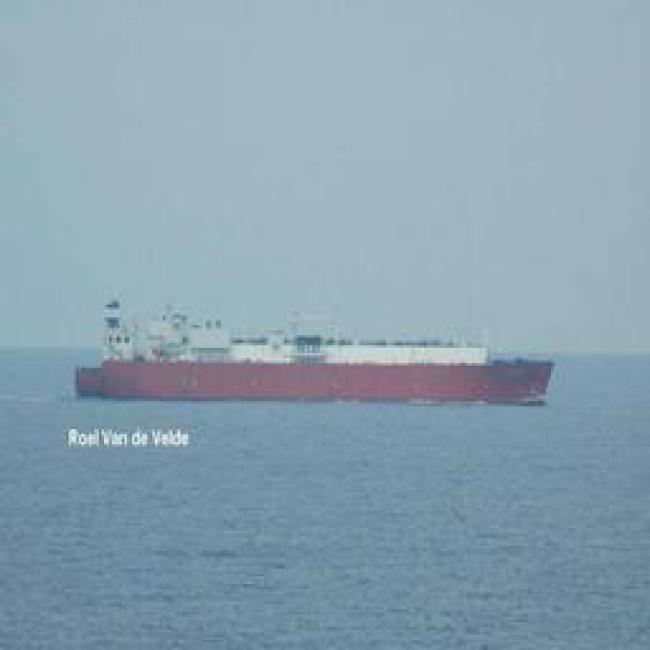Ship: (62, 304, 561, 417)
